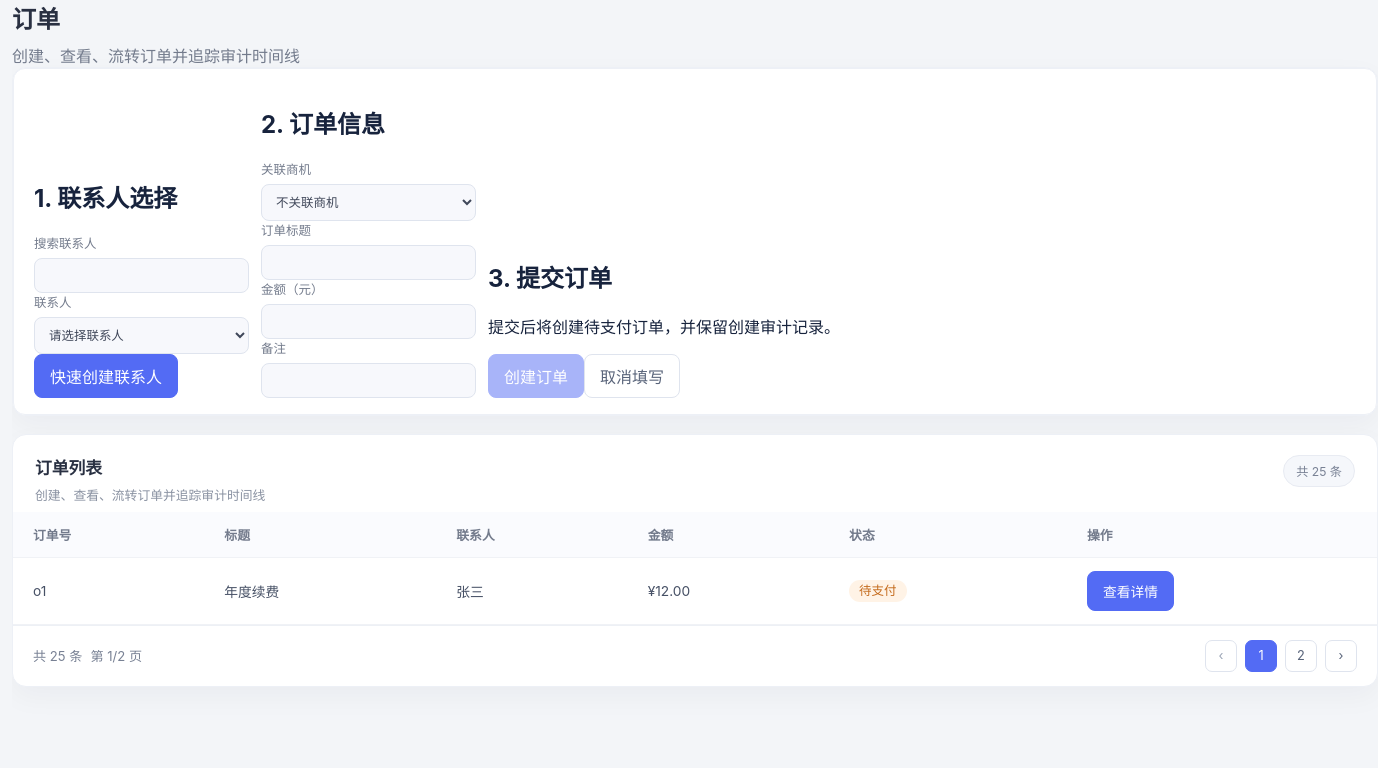
Test case: paginates the order list with small phase35 controls
Check: the cell "张三" is shown, box [436, 557, 628, 624]
Check: the navigation bar named "分页" shows "共 25 条", box [13, 625, 1377, 686]
Click the button named "下一页" at (1341, 656), box [1325, 640, 1357, 672]
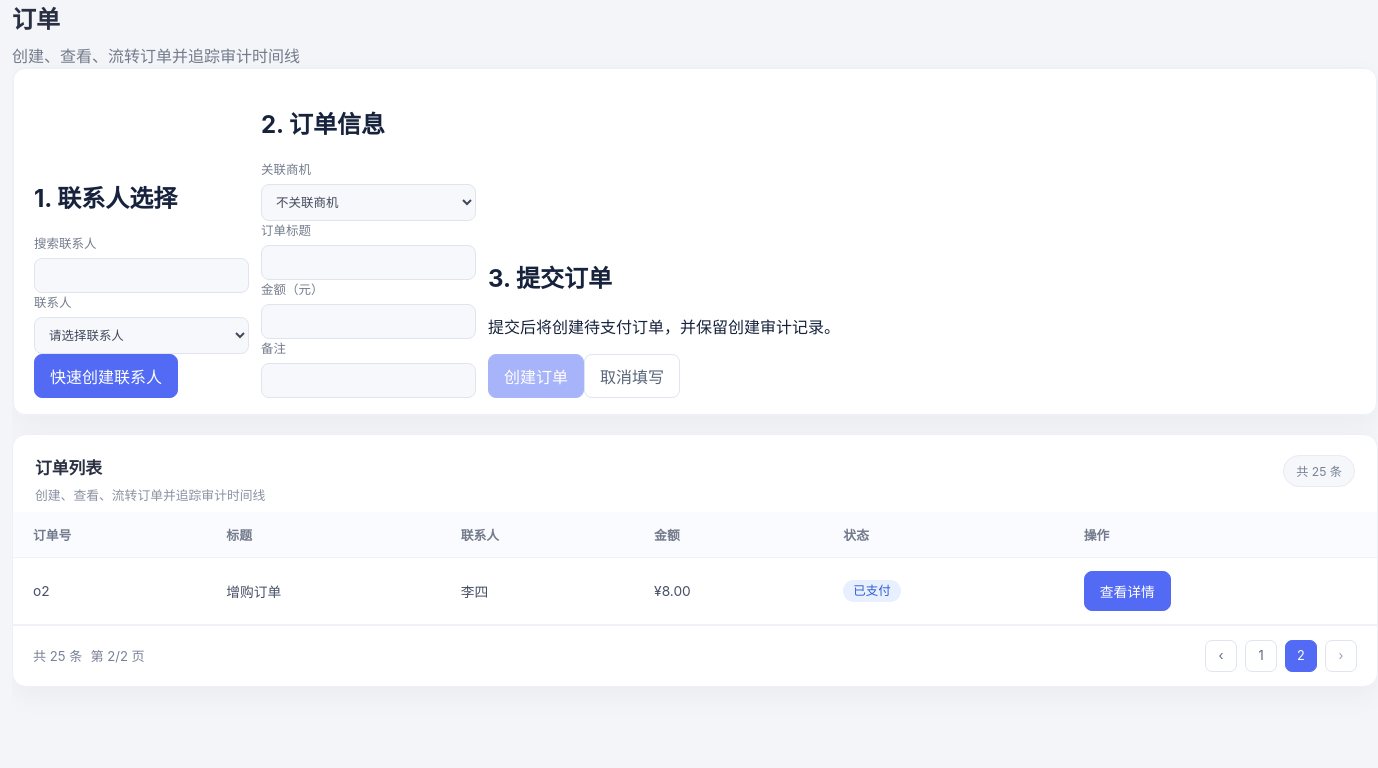
Check: the cell "李四" is shown, box [441, 557, 634, 624]
Check: the navigation bar named "分页" shows "第 2/2 页", box [13, 625, 1377, 686]
